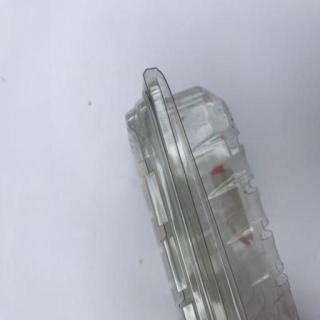Plastic-bottle: (125, 67, 308, 320)
